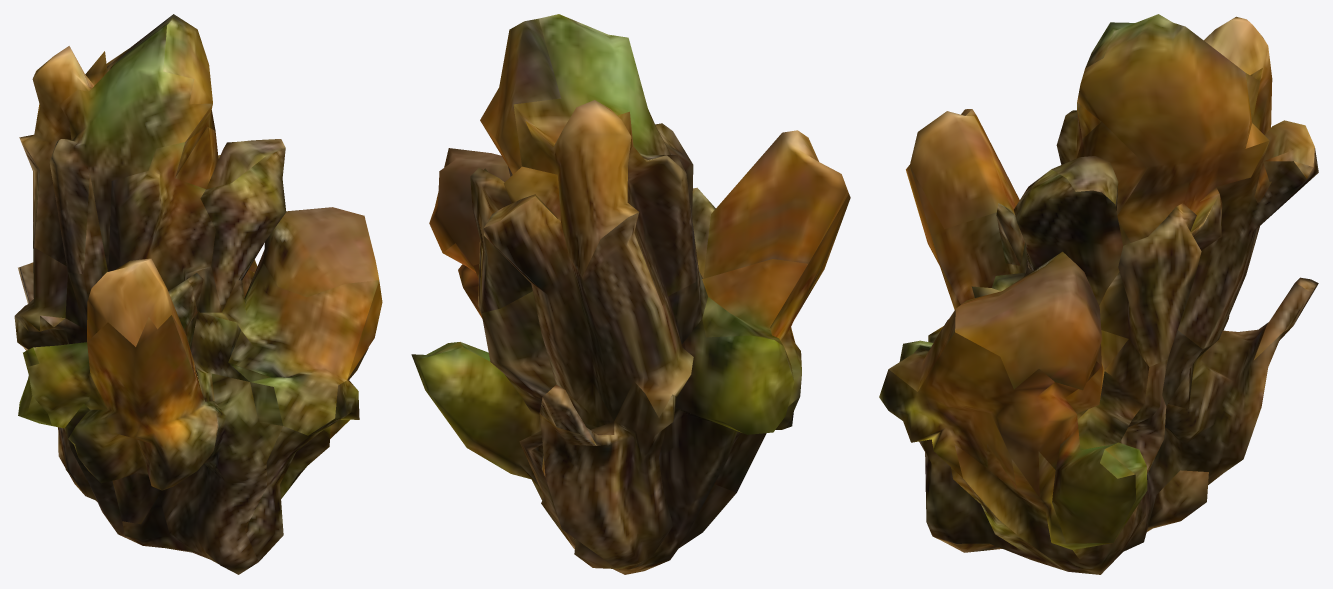
Rendered from crystal-ai_guide_01.glb.
3 renders of one model, left to right at view 1: azimuth 30°, elevation 25°; view 2: azimuth 150°, elevation 25°; view 3: azimuth 270°, elevation 25°, orthographic. The views are drawn at different scales.
Visible parts, largest first — view 1: mesh_node.002; view 2: mesh_node.002; view 3: mesh_node.002.
Part boxes in pixels (x1=…): mesh_node.002: x1=14, y1=14, x2=382, y2=574; mesh_node.002: x1=411, y1=14, x2=850, y2=574; mesh_node.002: x1=879, y1=14, x2=1318, y2=574.
Size of the model in its own units: 0.3125 by 0.4521 by 0.3223.
1 material, 1 textured.
